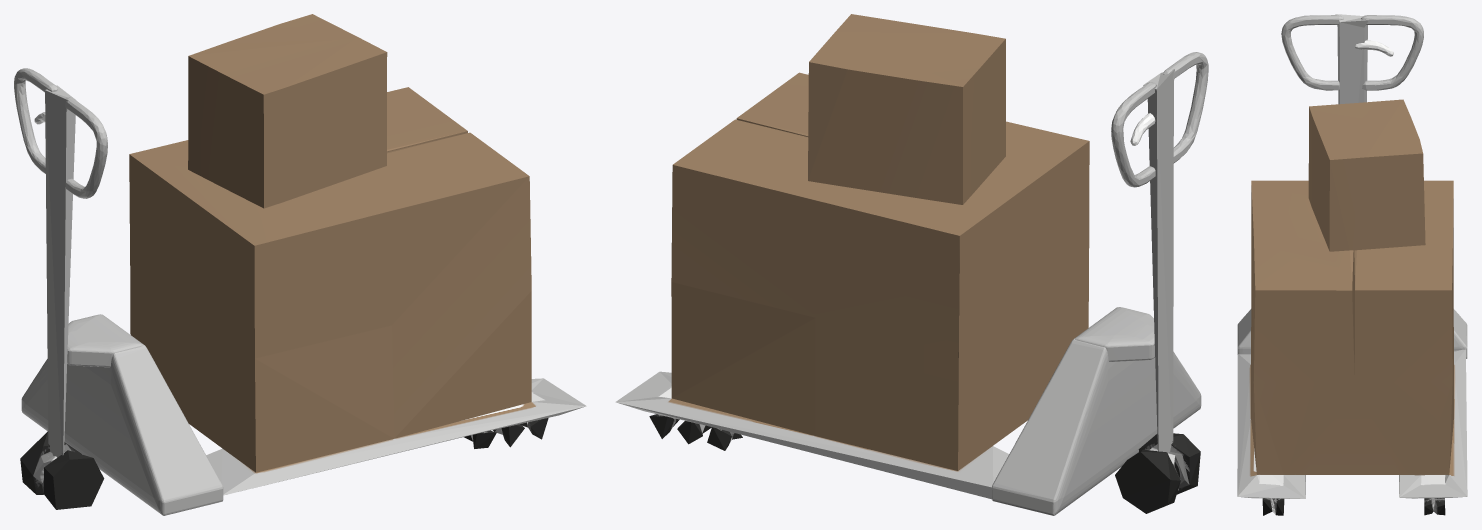
Rendered from hubwagen.glb.
The picture shows the model from 3 angles, left to right: view 1: azimuth 30°, elevation 25°; view 2: azimuth 150°, elevation 25°; view 3: azimuth 270°, elevation 25°; orthographic projection. The views are drawn at different scales.
Visible parts, largest first — view 1: 275959_23_05_16_10_33_12_0, 275959_23_05_16_10_33_12_5, 275959_23_05_16_10_33_12_1, 275959_23_05_16_10_33_12_3, 275959_23_05_16_10_33_12_2; view 2: 275959_23_05_16_10_33_12_0, 275959_23_05_16_10_33_12_5, 275959_23_05_16_10_33_12_1, 275959_23_05_16_10_33_12_3, 275959_23_05_16_10_33_12_2; view 3: 275959_23_05_16_10_33_12_0, 275959_23_05_16_10_33_12_3, 275959_23_05_16_10_33_12_5, 275959_23_05_16_10_33_12_1, 275959_23_05_16_10_33_12_4.
Boxes of the visible parts, x1,y1,x2,y2 form: 275959_23_05_16_10_33_12_0: [45, 14, 586, 495]; 275959_23_05_16_10_33_12_5: [21, 316, 223, 515]; 275959_23_05_16_10_33_12_1: [20, 418, 548, 509]; 275959_23_05_16_10_33_12_3: [14, 68, 107, 198]; 275959_23_05_16_10_33_12_2: [67, 314, 143, 367]; 275959_23_05_16_10_33_12_0: [615, 14, 1174, 499]; 275959_23_05_16_10_33_12_5: [992, 307, 1201, 515]; 275959_23_05_16_10_33_12_1: [649, 414, 1200, 513]; 275959_23_05_16_10_33_12_3: [1111, 52, 1208, 187]; 275959_23_05_16_10_33_12_2: [1075, 307, 1154, 361]; 275959_23_05_16_10_33_12_0: [1237, 14, 1467, 498]; 275959_23_05_16_10_33_12_3: [1281, 15, 1423, 90]; 275959_23_05_16_10_33_12_5: [1237, 309, 1467, 358]; 275959_23_05_16_10_33_12_1: [1262, 498, 1445, 515]; 275959_23_05_16_10_33_12_4: [1355, 40, 1393, 56].
Size of the model in its own units: 26.91 by 22.06 by 13.83.
Materials: 6 (6 with a texture image).
